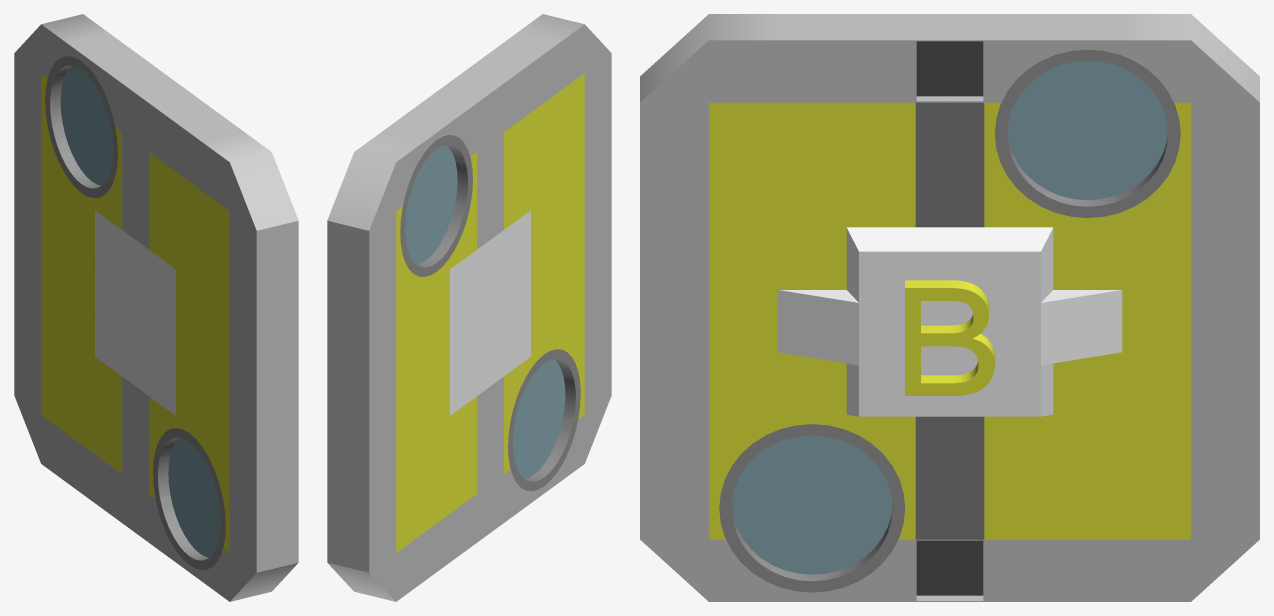
The model's file is B_Gate.fbx.
3 views of the same model, side by side, from view 1: azimuth 30°, elevation 25°; view 2: azimuth 150°, elevation 25°; view 3: azimuth 270°, elevation 25° (orthographic). The views are drawn at different scales.
Parts seen in each view (by area): view 1: B_Gate001, Glass001, Window002; view 2: B_Gate001, Glass001, Window002; view 3: B_Gate001, Glass001, Window002, Door002, B.
Part boxes in pixels (x1,y1,x2,y2): B_Gate001: (14, 14, 298, 601); Glass001: (60, 66, 220, 557); Window002: (45, 56, 225, 569); B_Gate001: (327, 14, 611, 601); Glass001: (405, 145, 565, 478); Window002: (400, 135, 580, 491); B_Gate001: (640, 14, 1259, 601); Glass001: (732, 61, 1167, 574); Window002: (719, 49, 1180, 592); Door002: (916, 41, 983, 595); B: (905, 280, 994, 395).
Bounding box in the file's own units: 9 × 50 × 50.
